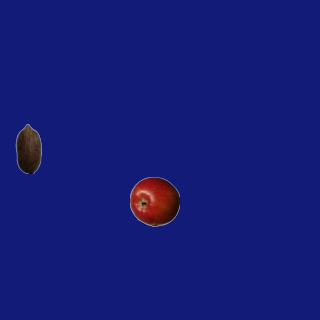Apple Braeburn: (129, 176, 179, 226)
Nut Pecan: (3, 123, 53, 173)
